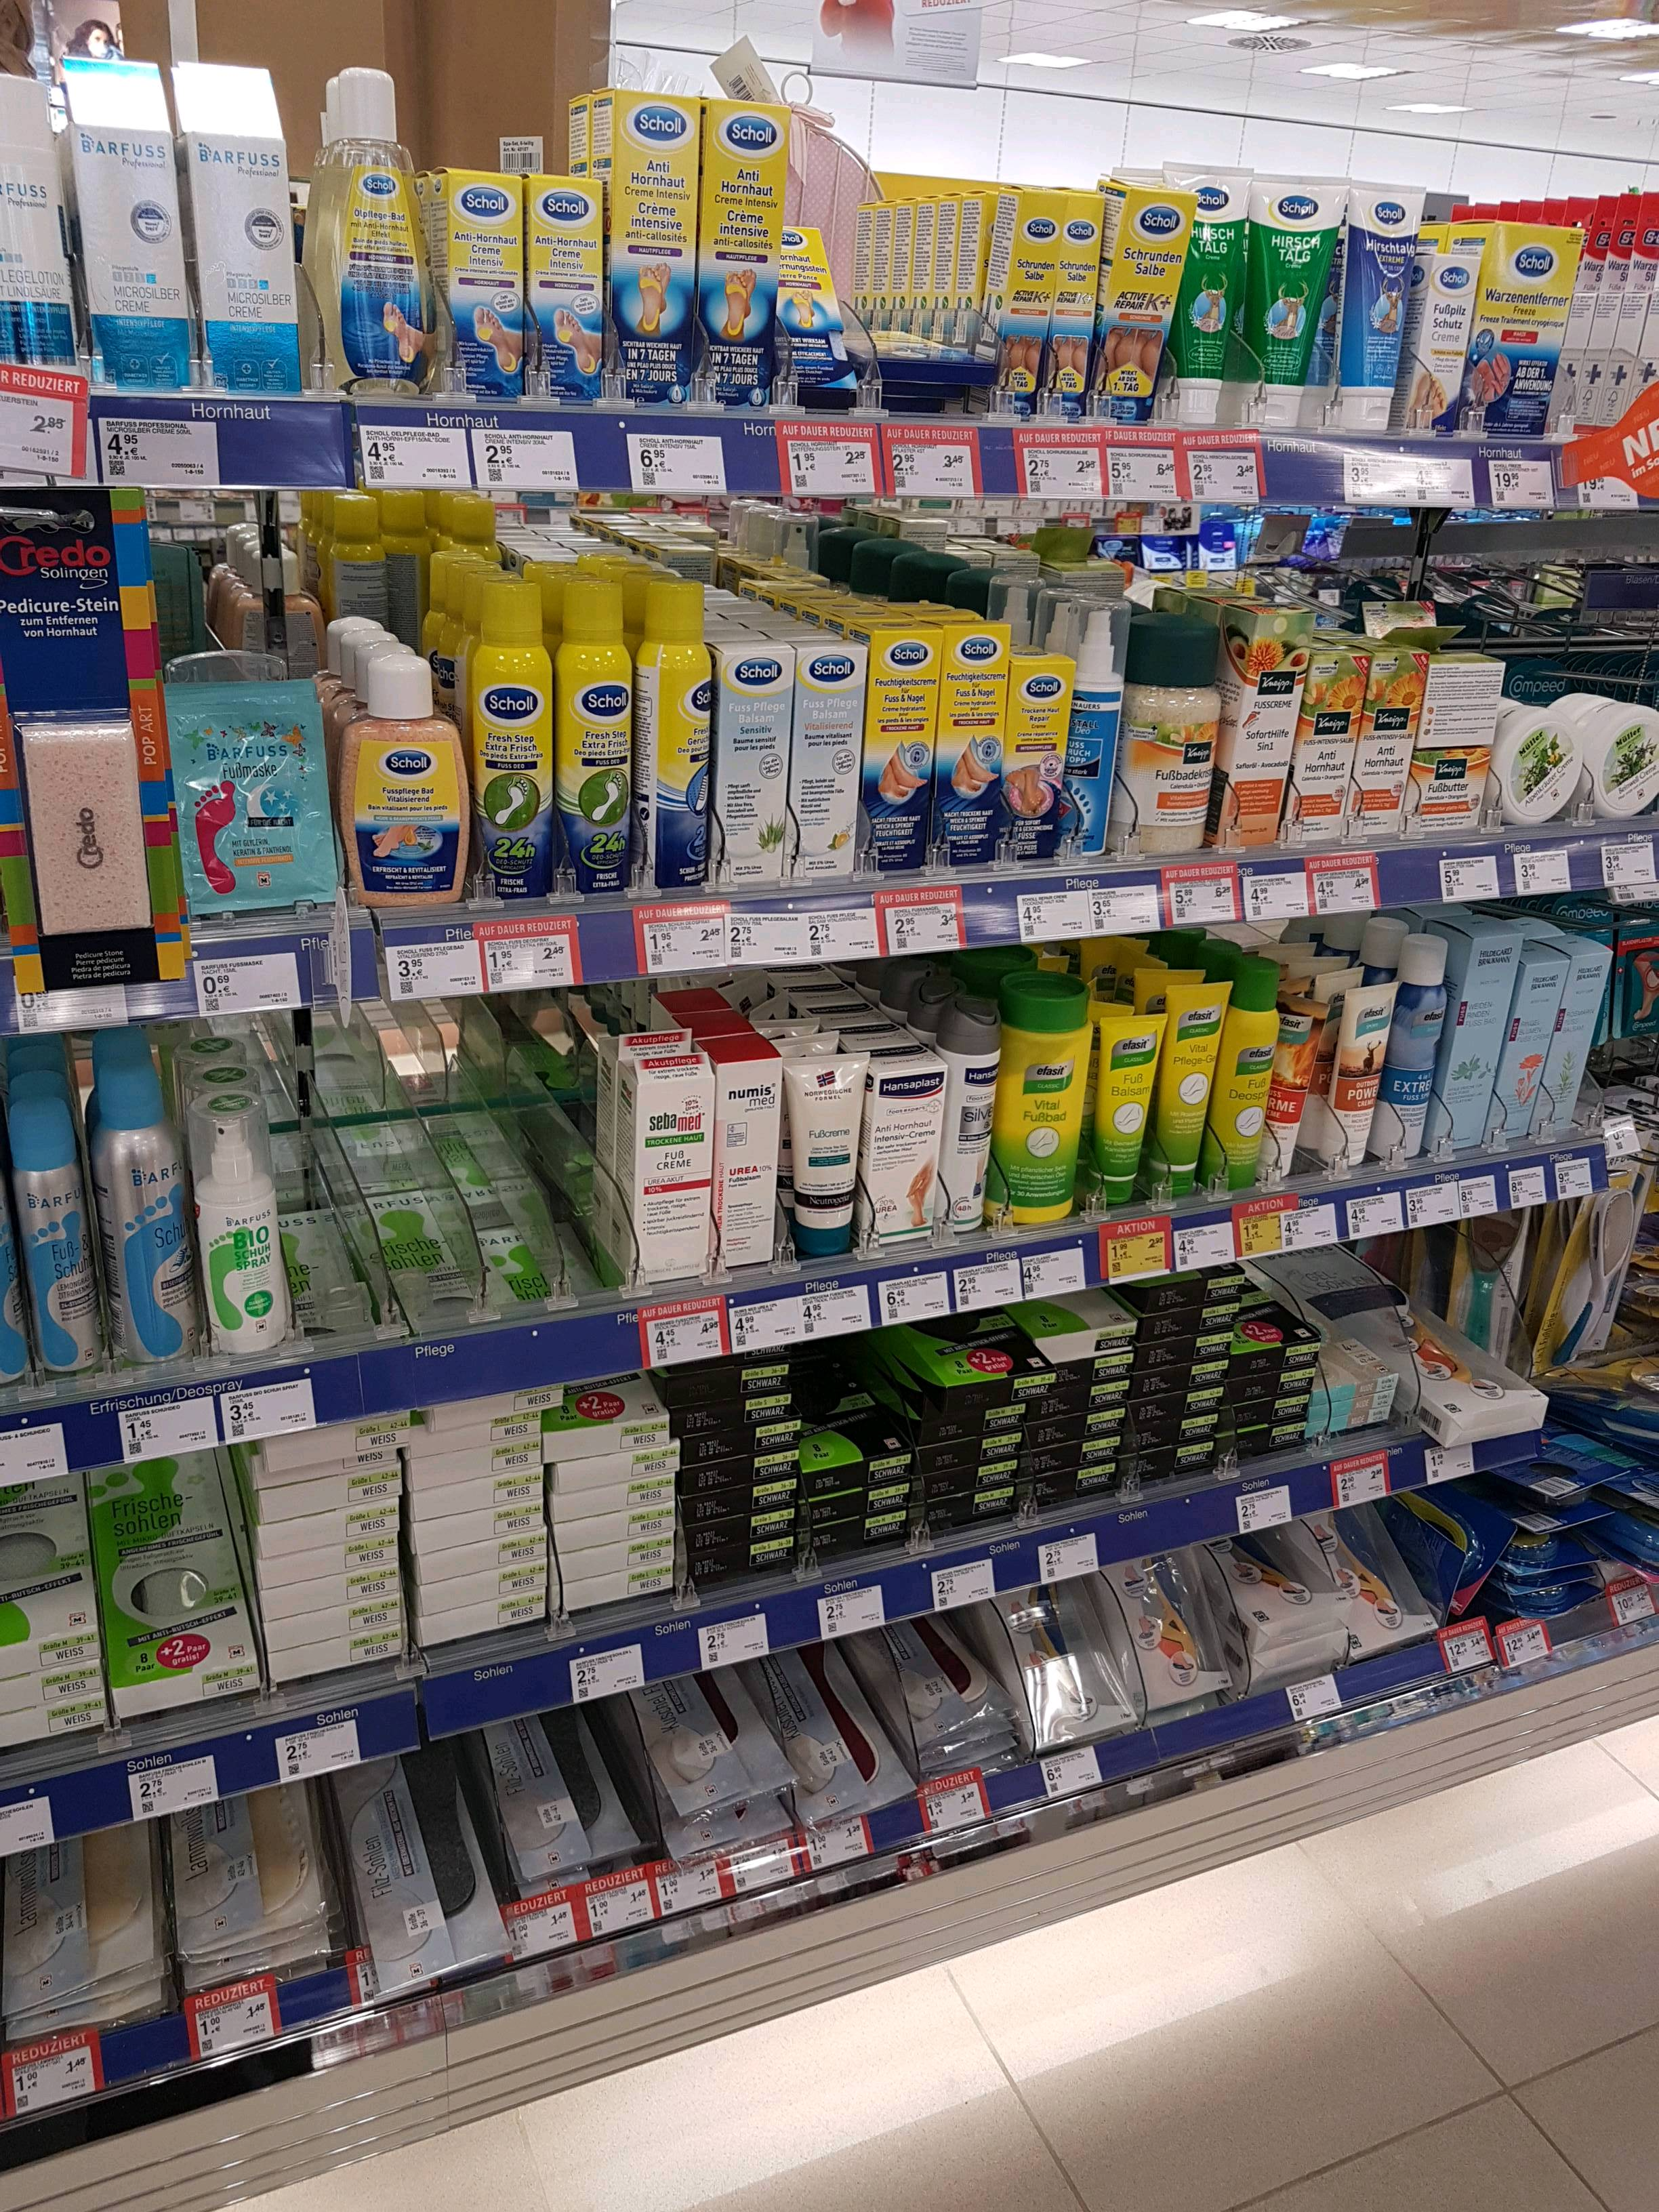Misplacement: (788, 1341, 918, 1573), (774, 212, 871, 418)
Out-of-stock: (249, 1015, 617, 1332)
